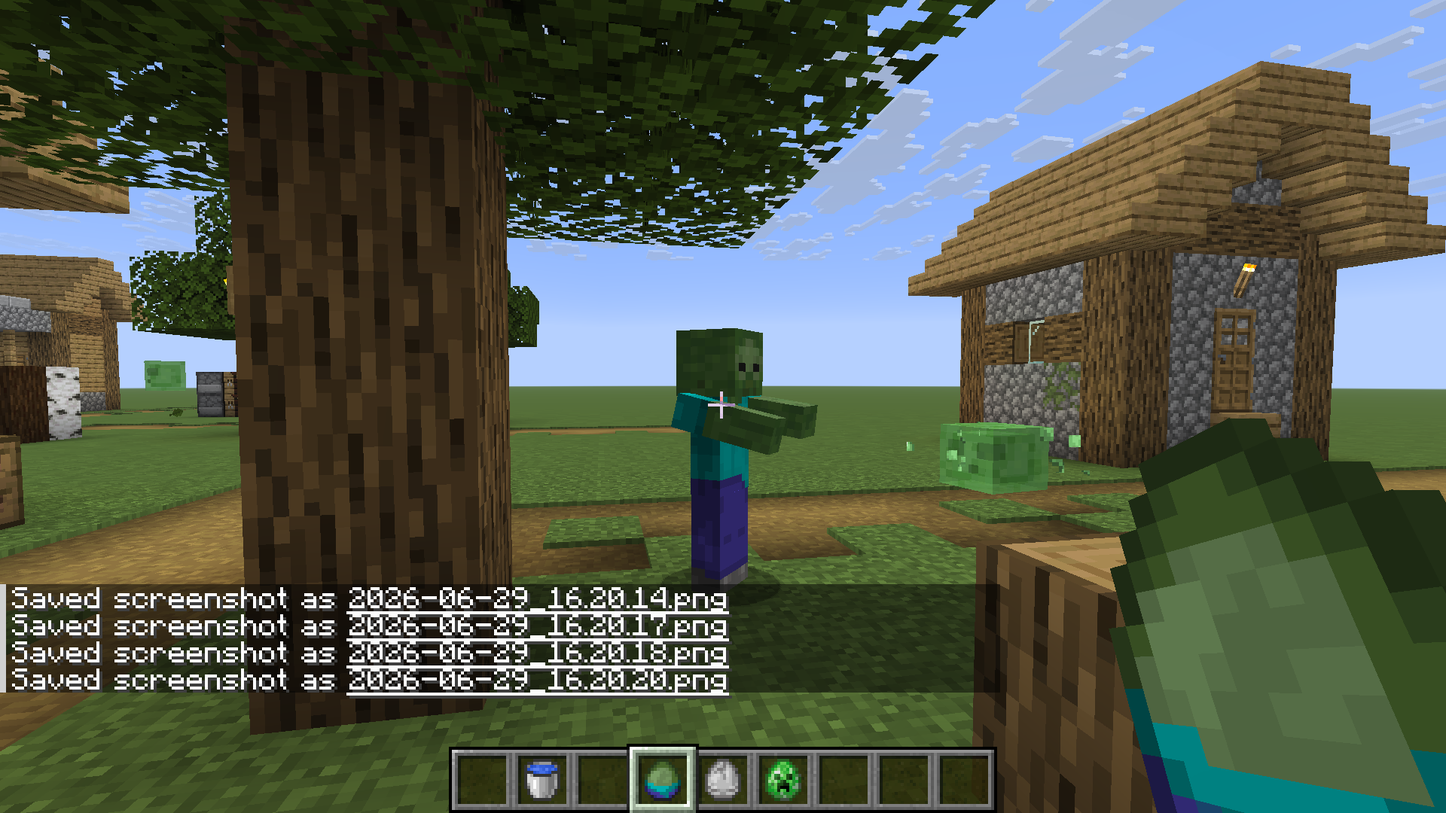zombie: (667, 321, 828, 592)
